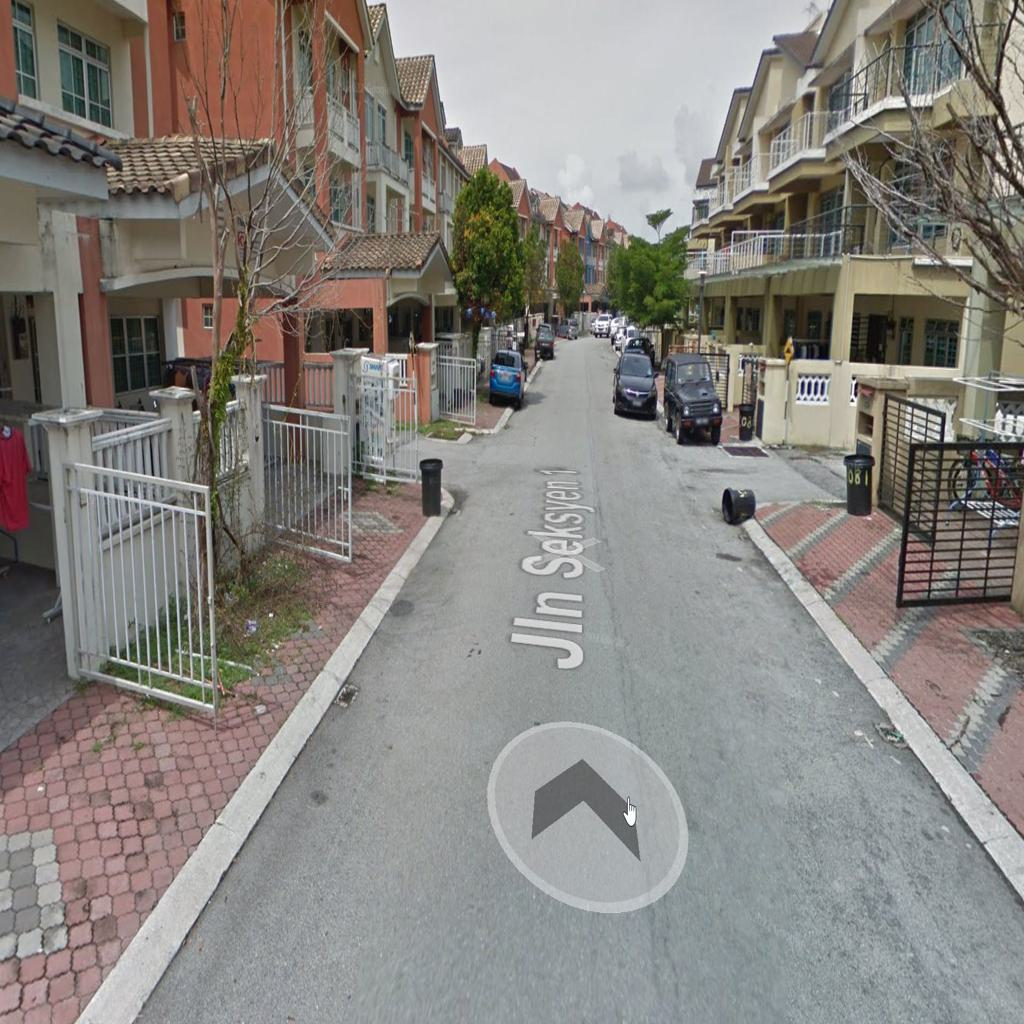Junction: (683, 403, 864, 535), (391, 396, 515, 512)
